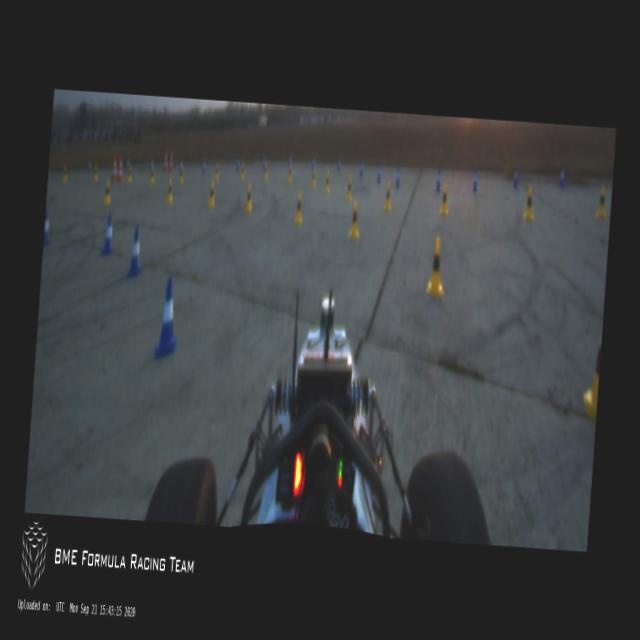blue_cone: (153, 276, 181, 360), (126, 226, 146, 276), (100, 213, 116, 254), (42, 210, 52, 247), (434, 168, 442, 193), (512, 166, 520, 190), (558, 166, 566, 188), (471, 167, 478, 192), (394, 167, 400, 190), (376, 163, 382, 186), (358, 160, 363, 178), (86, 159, 92, 173), (236, 158, 240, 172), (262, 156, 266, 170), (149, 156, 153, 170), (202, 160, 206, 173), (178, 160, 182, 172), (337, 158, 340, 172), (125, 156, 128, 169), (288, 156, 291, 168), (312, 158, 314, 169)
large_orange_cone: (110, 154, 118, 182), (116, 154, 124, 182), (162, 149, 168, 174), (168, 148, 174, 173)
yellow_cone: (581, 319, 602, 421), (426, 236, 447, 296), (594, 185, 608, 220), (522, 186, 535, 222), (348, 202, 360, 240), (294, 192, 304, 224), (439, 184, 449, 216), (244, 184, 254, 213), (102, 180, 111, 208), (207, 180, 216, 208), (384, 183, 392, 211), (345, 174, 353, 200), (166, 180, 173, 204), (310, 167, 317, 189), (324, 172, 330, 194), (263, 159, 269, 181), (148, 166, 154, 186), (178, 166, 184, 184), (126, 165, 132, 183), (92, 164, 98, 182), (62, 166, 68, 182), (287, 164, 292, 182), (240, 162, 244, 181), (214, 163, 218, 180)
